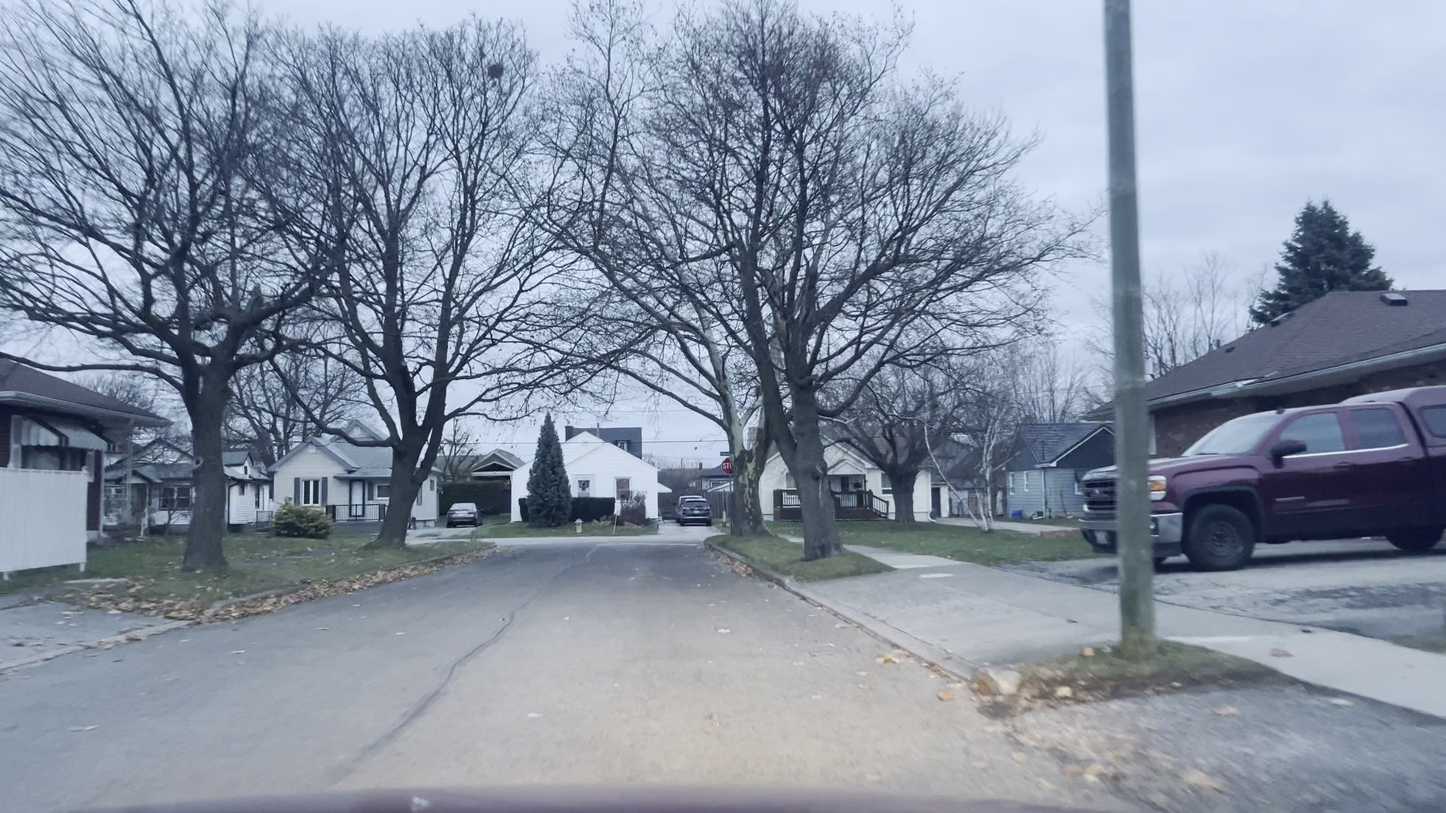cracks: (316, 659, 491, 784), (436, 587, 560, 661)
